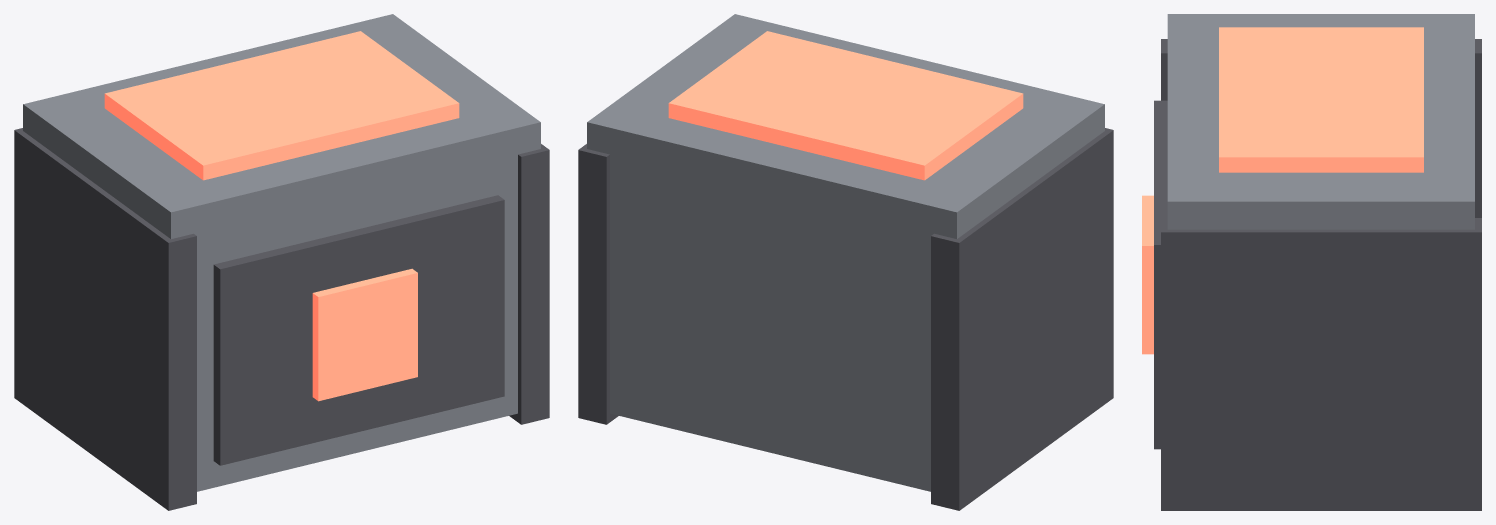
The model's file is vault.glb.
3 renders of one model, left to right at view 1: azimuth 30°, elevation 25°; view 2: azimuth 150°, elevation 25°; view 3: azimuth 270°, elevation 25°, orthographic. The views are drawn at different scales.
Parts seen in each view (by area): view 1: Chest, Lid; view 2: Chest, Lid; view 3: Chest, Lid.
Boxes of the visible parts, left/top/right/bottom form: Chest: left=14, top=128, right=549, bottom=510; Lid: left=23, top=14, right=540, bottom=241; Chest: left=578, top=128, right=1113, bottom=510; Lid: left=587, top=14, right=1104, bottom=241; Chest: left=1142, top=39, right=1481, bottom=510; Lid: left=1167, top=14, right=1474, bottom=229.
Size of the model in its own units: 1.34 by 1.04 by 0.995.
